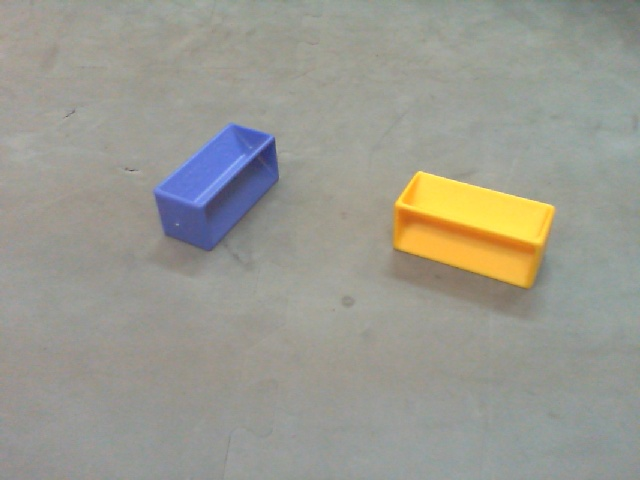BlueSample: (151, 122, 283, 257)
YellowSample: (387, 164, 563, 297)
